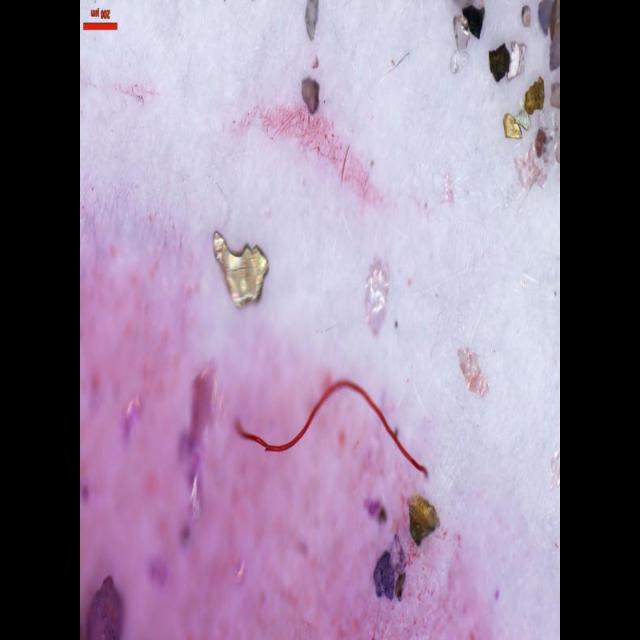Fibre: (227, 341, 433, 491)
